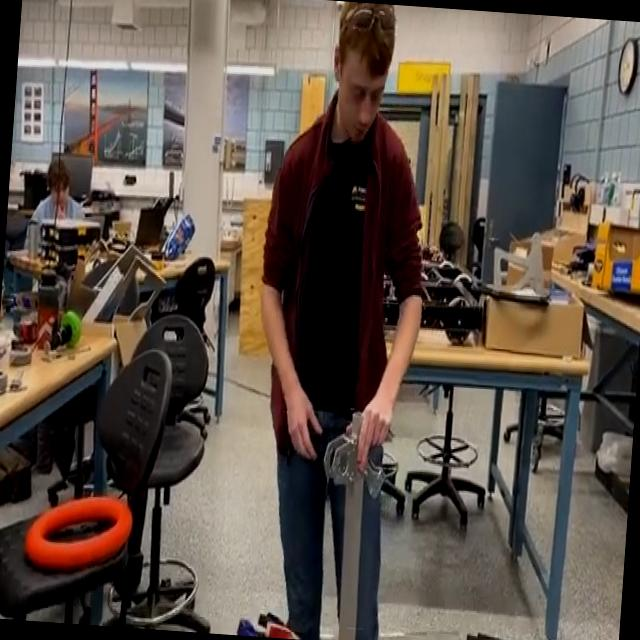note: (20, 484, 137, 582)
